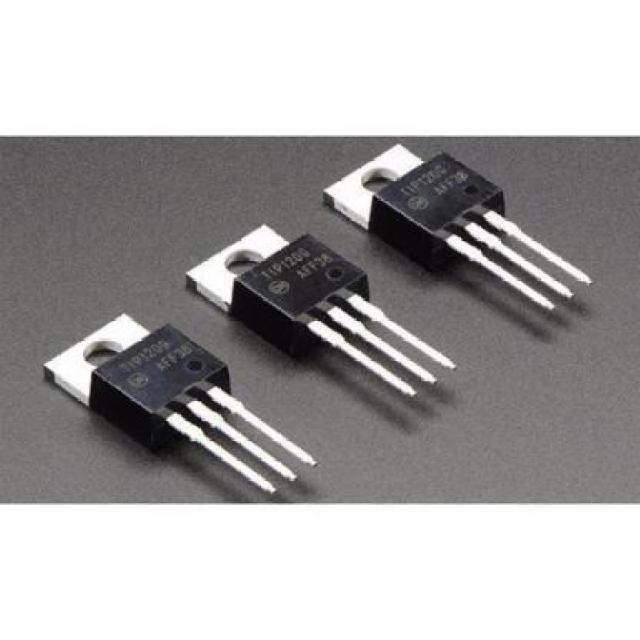Transistor: (374, 154, 592, 311), (89, 326, 231, 452), (235, 235, 368, 328)
